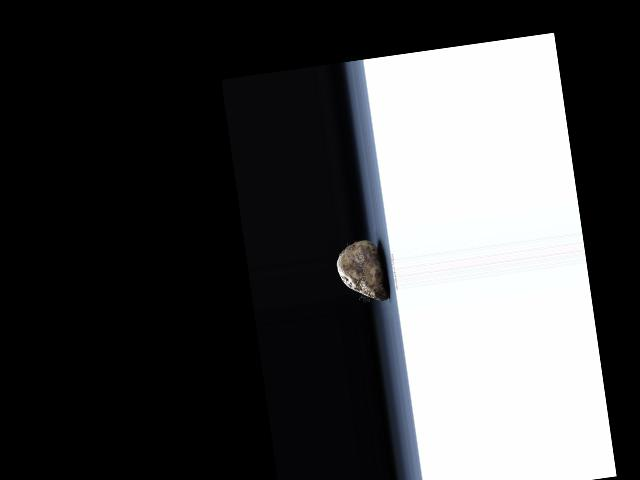beet: (334, 236, 389, 305)
